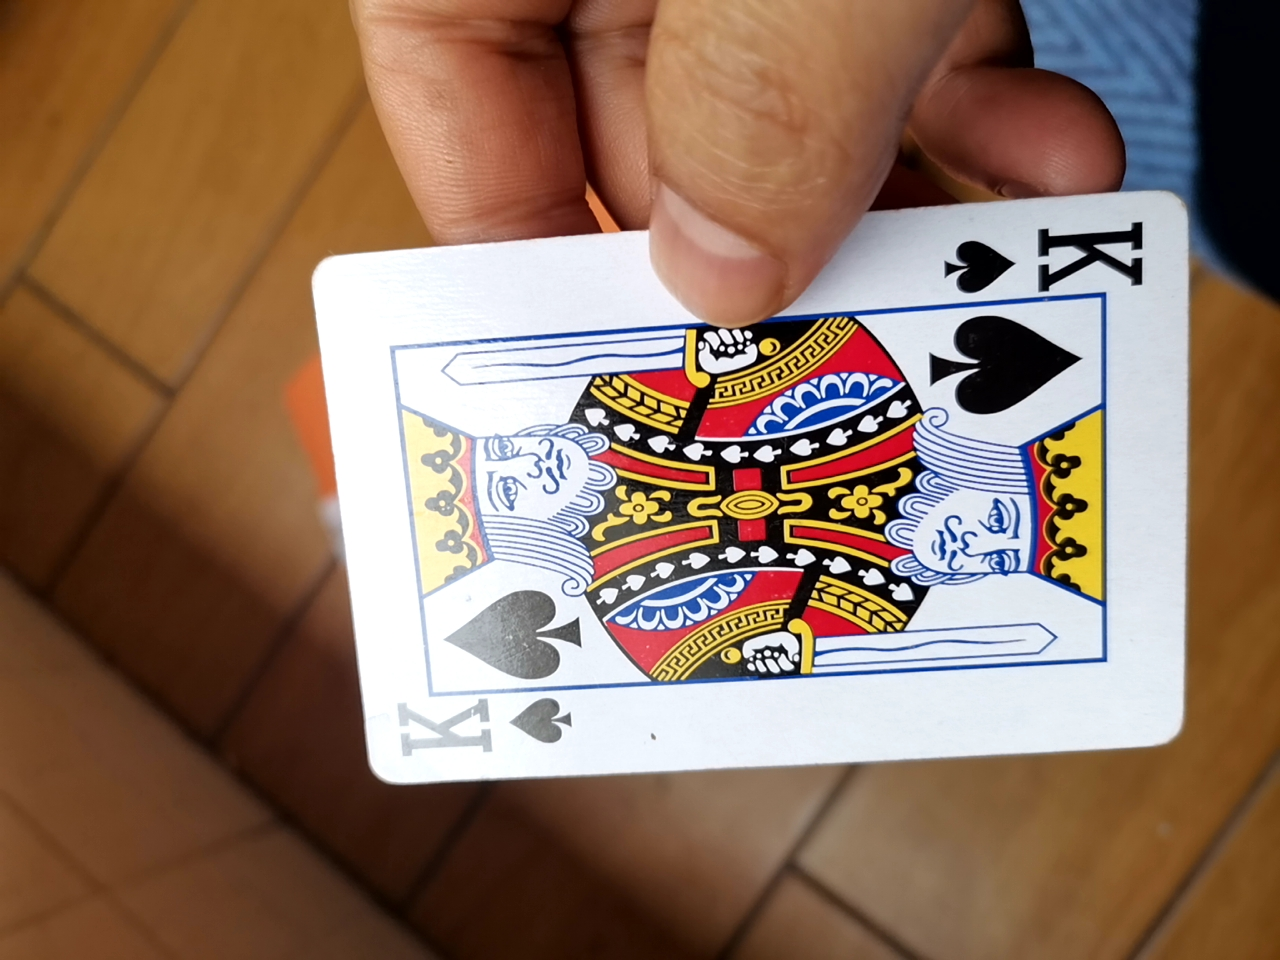ht k: (295, 187, 1167, 792)
